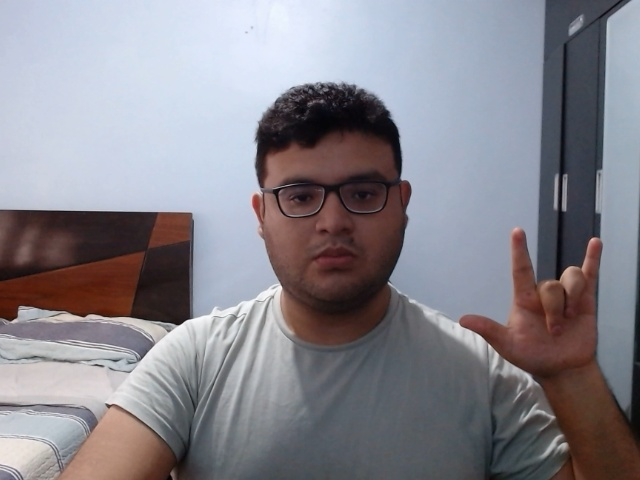I love you: (456, 222, 610, 381)
